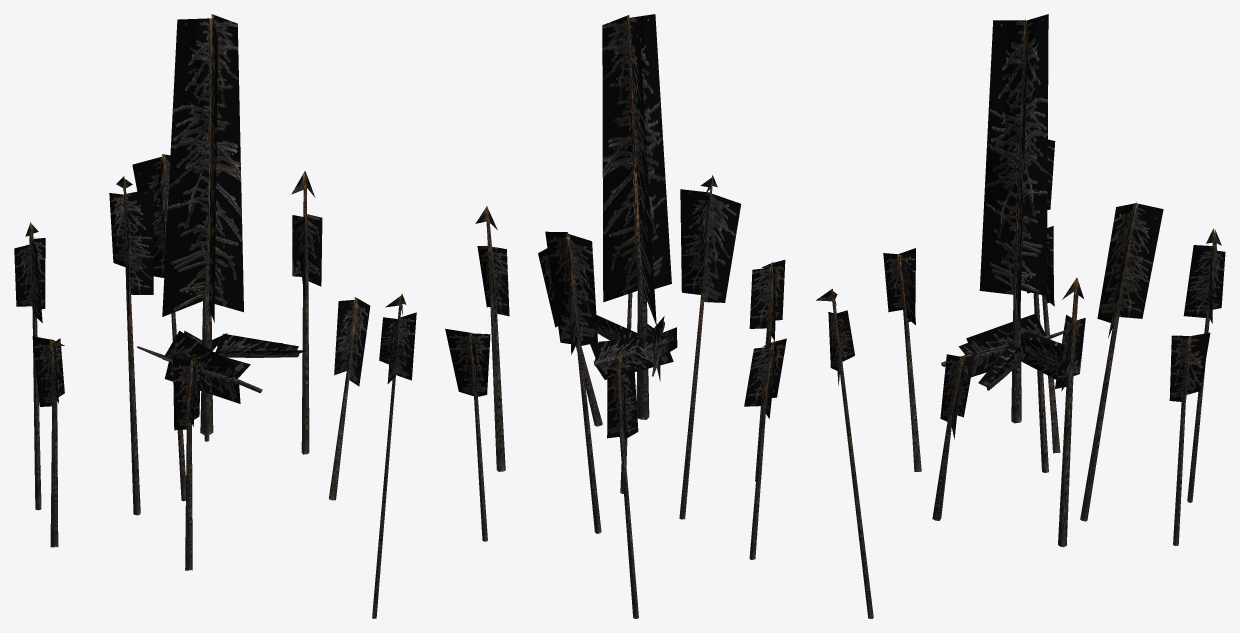
The model's file is tree_6_a.obj.
3 views of the same model, side by side, from view 1: azimuth 30°, elevation 25°; view 2: azimuth 150°, elevation 25°; view 3: azimuth 270°, elevation 25° (orthographic). The views are drawn at different scales.
Bounding box in the file's own units: 19.91 × 36.19 × 23.97.
